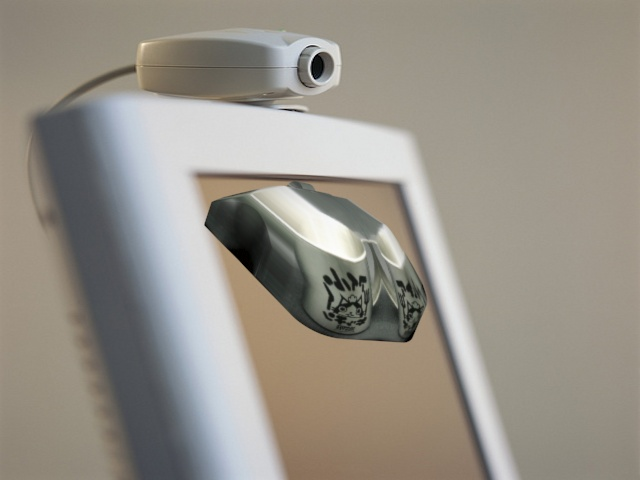mouse: (201, 177, 432, 344)
